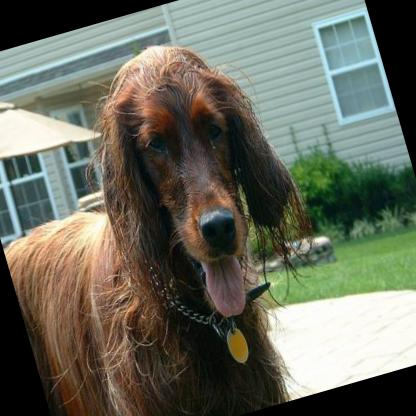Irish_setter: (0, 15, 345, 416)
